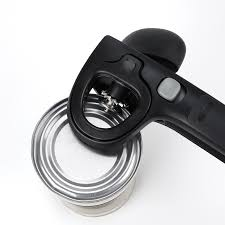can: (32, 89, 143, 218)
